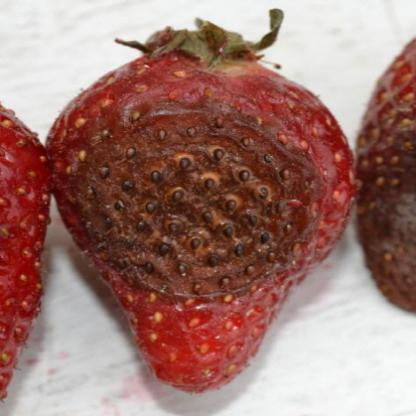Strawberry_Anthracnose_Fruit_Rot: (66, 97, 328, 303)
